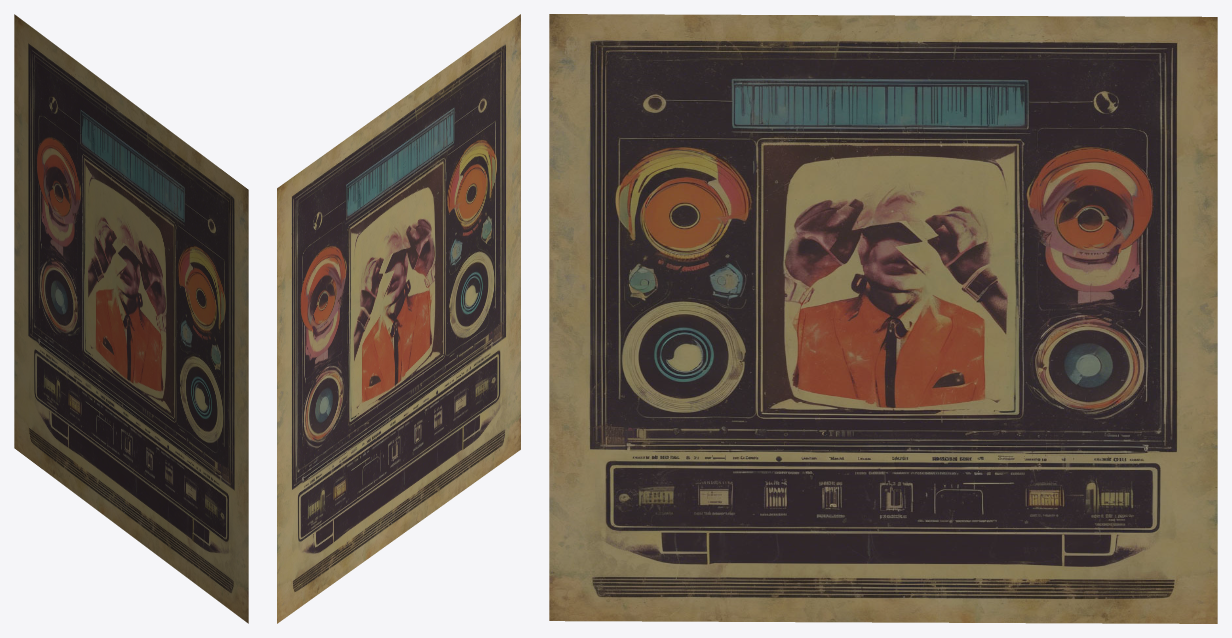
Rendered from image04.glb.
3 renders of one model, left to right at view 1: azimuth 30°, elevation 25°; view 2: azimuth 150°, elevation 25°; view 3: azimuth 270°, elevation 25°, orthographic. The views are drawn at different scales.
Visible parts, largest first — view 1: image04; view 2: image04; view 3: image04.
Part boxes in pixels (x1=…): image04: x1=14, y1=14, x2=248, y2=623; image04: x1=277, y1=14, x2=520, y2=623; image04: x1=549, y1=14, x2=1217, y2=623.
Bounding box in the file's own units: 0.0231 × 2.25 × 2.25.
1 material, 1 textured.
